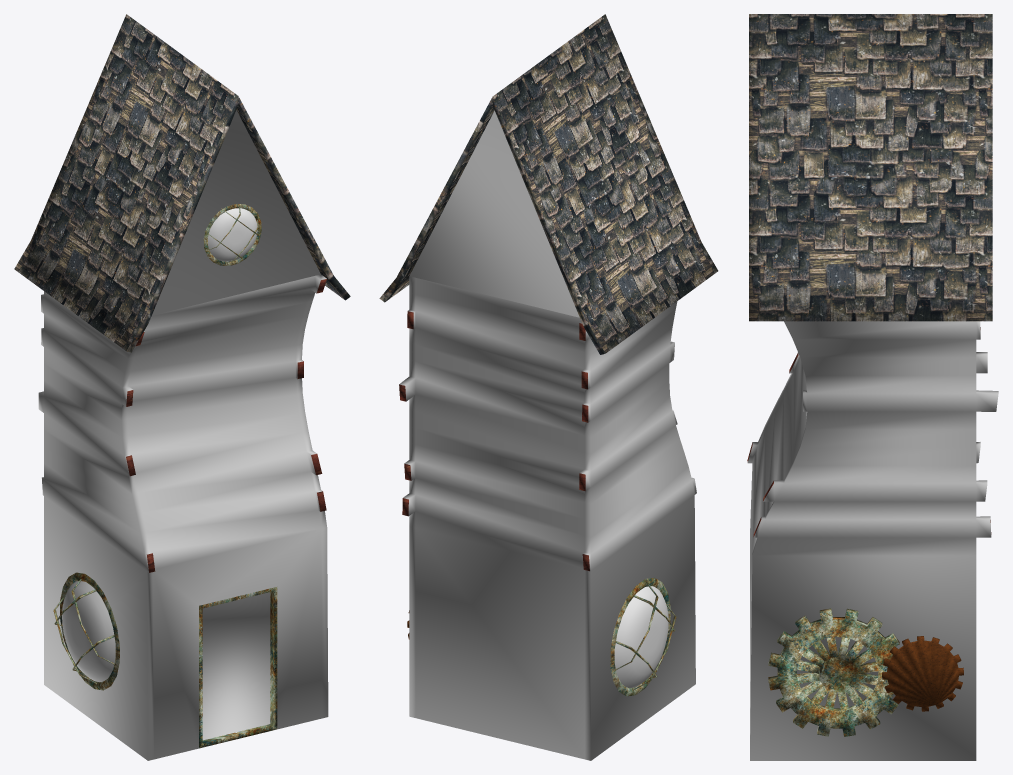
Rendered from Tall House.fbx.
The picture shows the model from 3 angles, left to right: view 1: azimuth 30°, elevation 25°; view 2: azimuth 150°, elevation 25°; view 3: azimuth 270°, elevation 25°; orthographic projection. The views are drawn at different scales.
Visible parts, largest first — view 1: TallHouse; view 2: TallHouse; view 3: TallHouse, Gear (1), Gear2 (2).
Boxes of the visible parts, x1,y1,x2,y2 form: TallHouse: (14,14,350,760); TallHouse: (379,14,718,760); TallHouse: (747,14,998,760); Gear (1): (768,608,899,736); Gear2 (2): (882,636,963,711).
Size of the model in its own units: 249 by 682 by 222.
